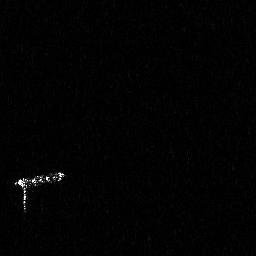ship: (12, 166, 67, 215)
